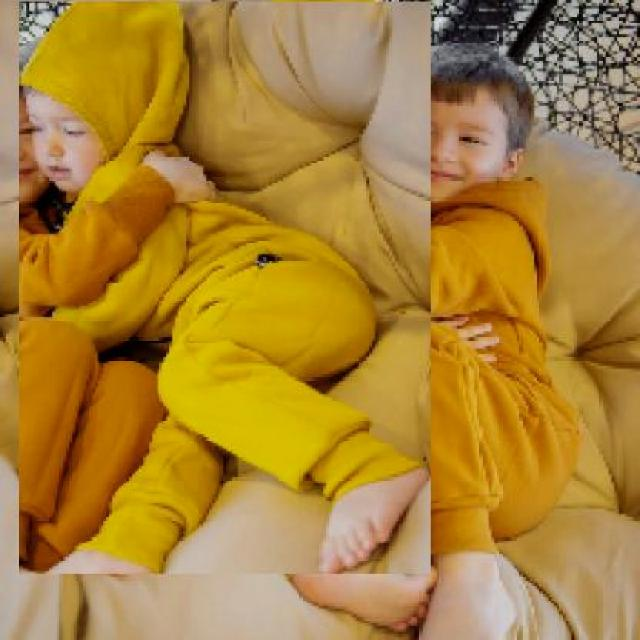child: (18, 2, 431, 576), (223, 42, 583, 638)
